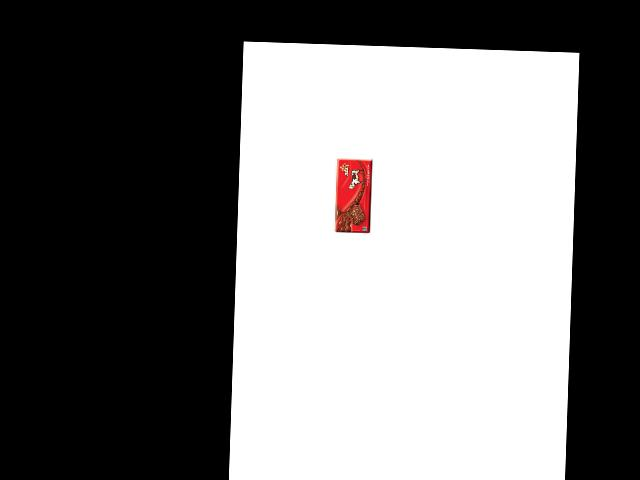chocolate: (327, 164, 366, 235)
